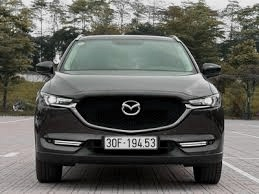Bien-so: (110, 136, 165, 152)
